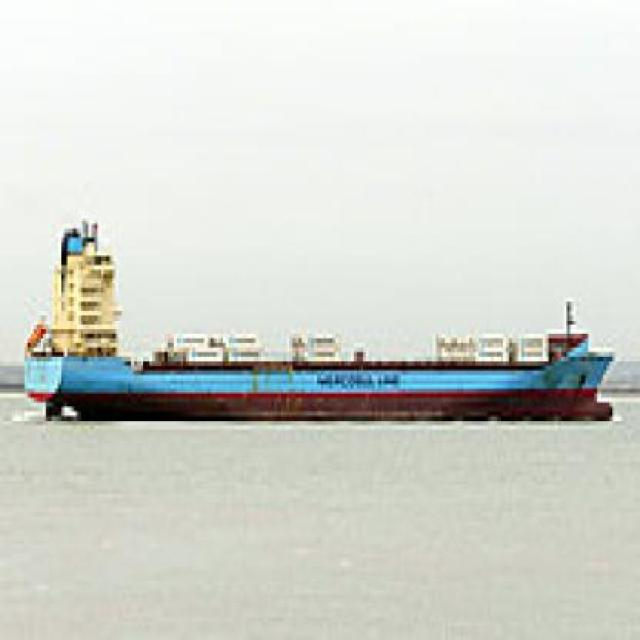container: (13, 202, 626, 440)
